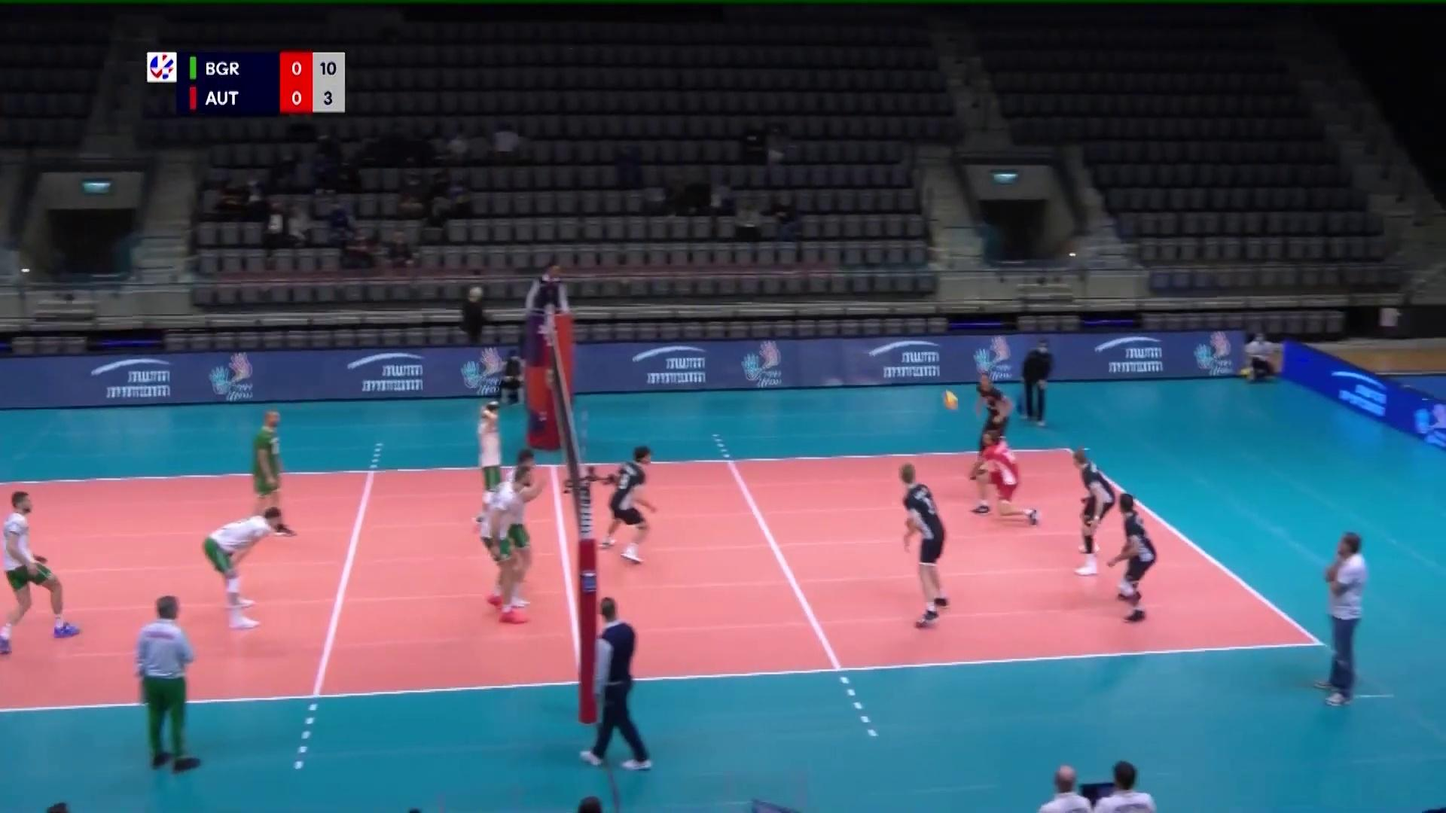ball: (941, 388, 958, 410)
